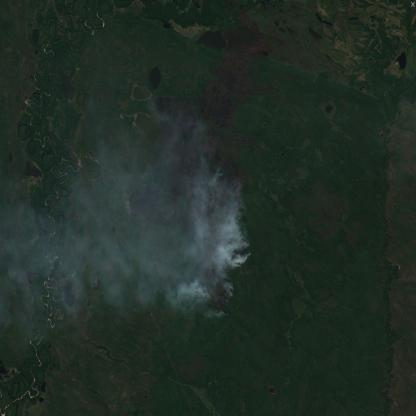fire: (213, 202, 253, 317)
